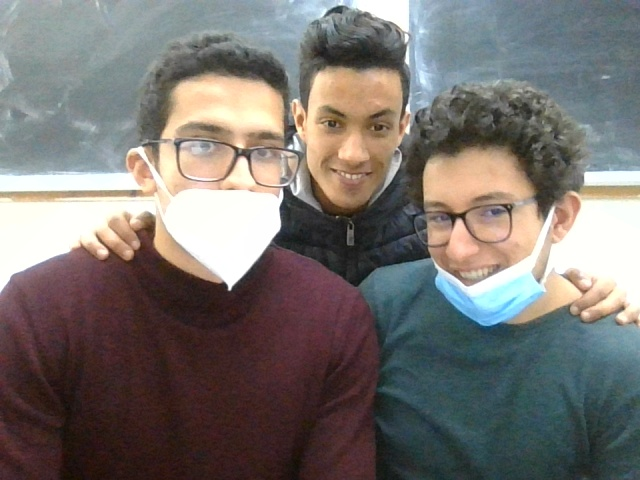mask_weared_incorrect: (129, 34, 292, 288), (402, 97, 589, 316)
without_mask: (287, 6, 417, 204)
